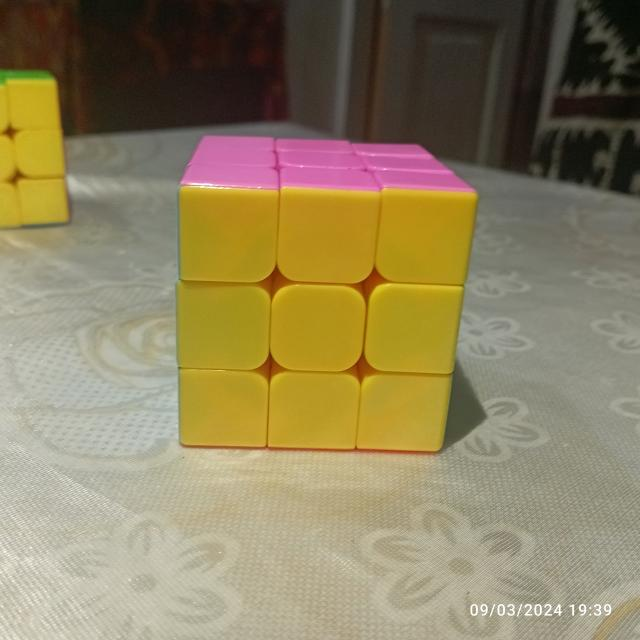Rub: (169, 130, 481, 461), (0, 70, 80, 234)
